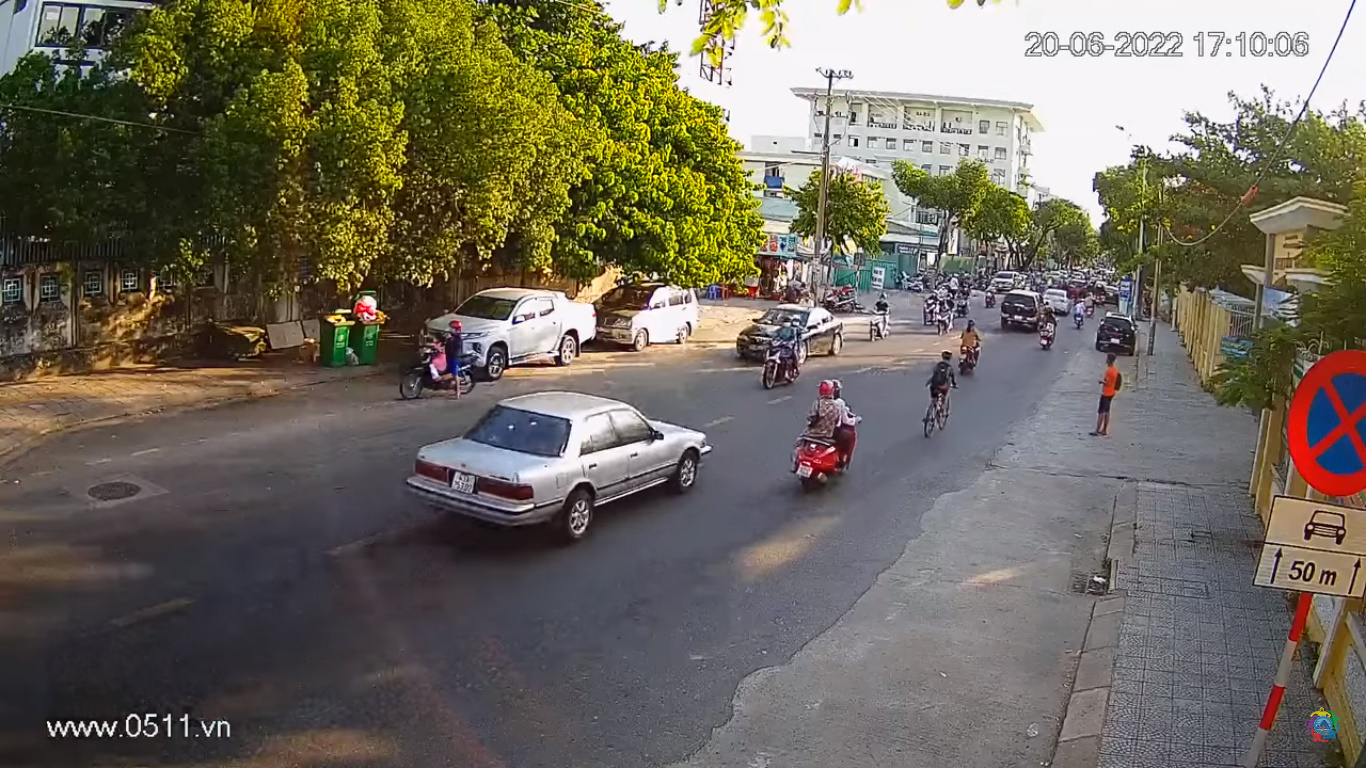car: (409, 390, 711, 539)
